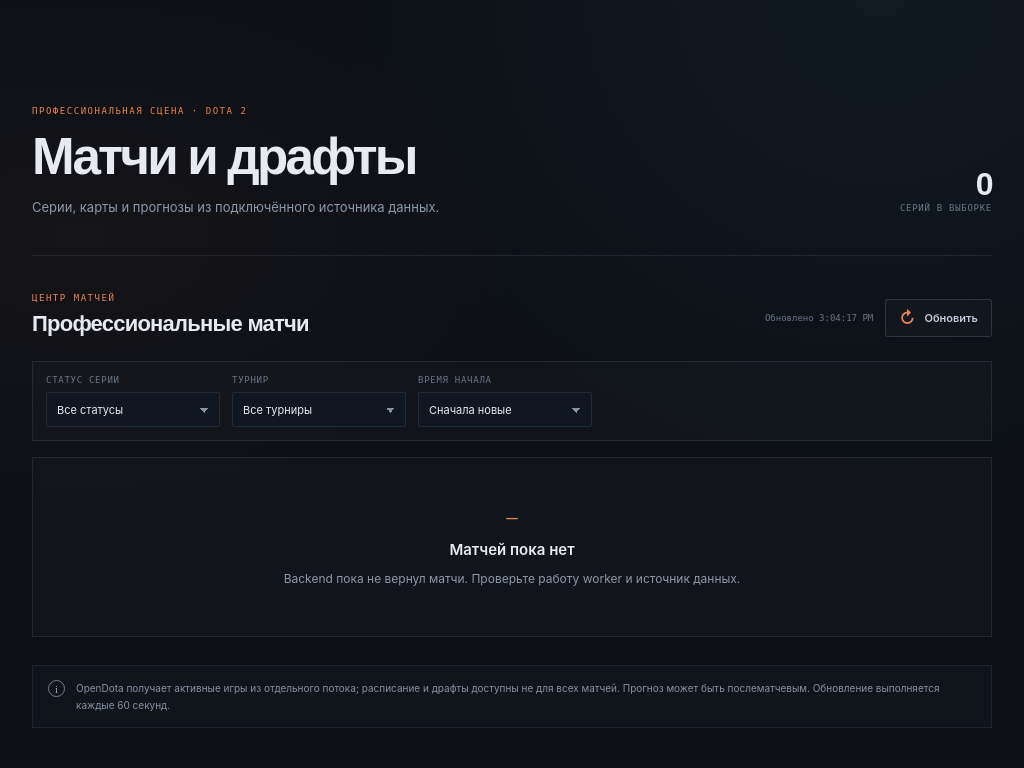
Test case: DashboardPage match filters › displays an empty filtered result differently from an API error
The image size is (1024, 768).
Select "Завершён" in the dropdown labelled "Статус серии" at (133, 410), box [46,392,220,427]
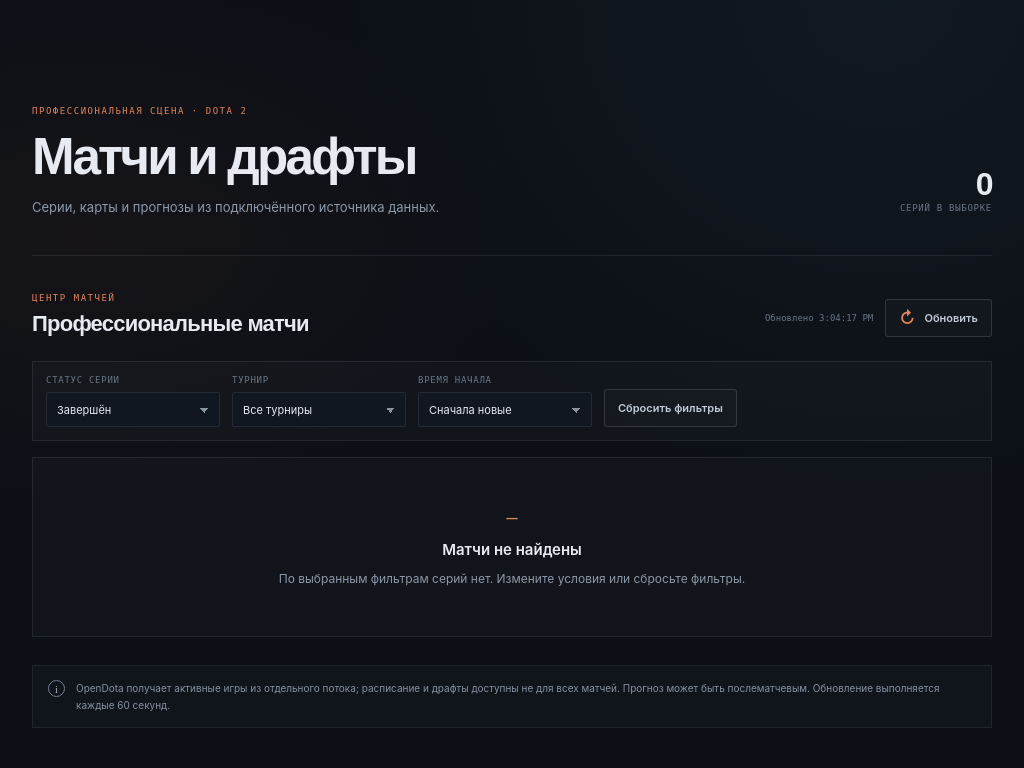
Expected: the heading "Матчи не найдены" is shown, [442,540,582,559]
Click the button "Обновить" at (939, 318), box [885,299,992,337]
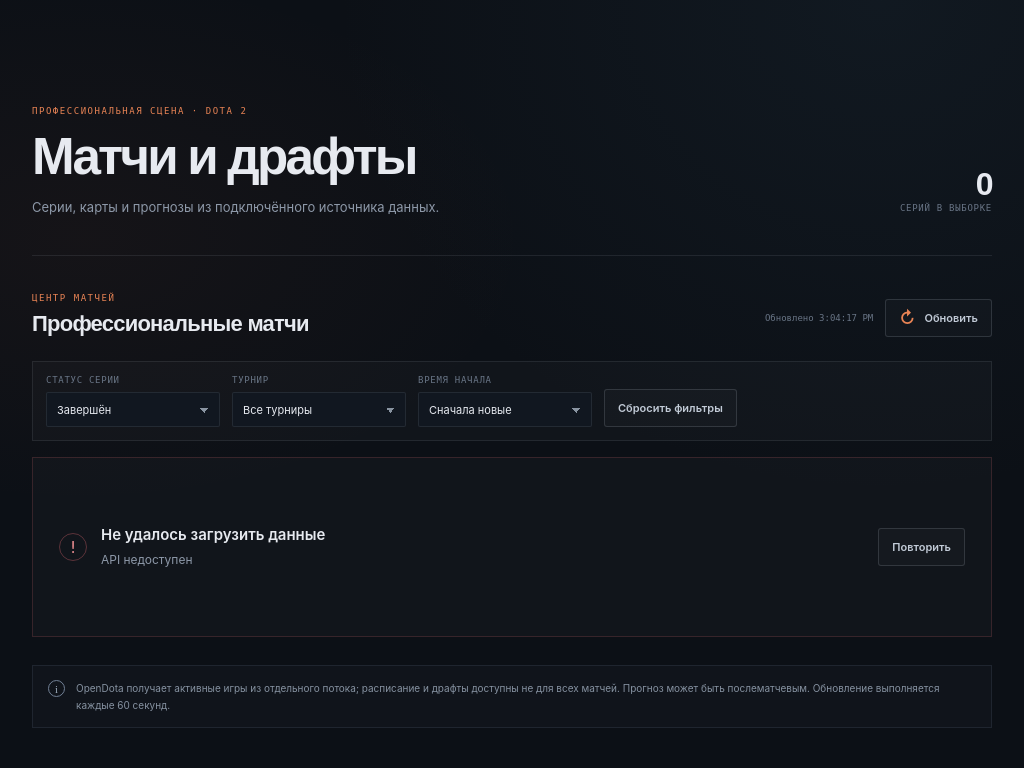
Expected: the text "API недоступен" is shown, [101,552,192,567]
Expected: the message "! Не удалось загрузить данные API недоступен Повторить" is shown, [32,457,992,637]
